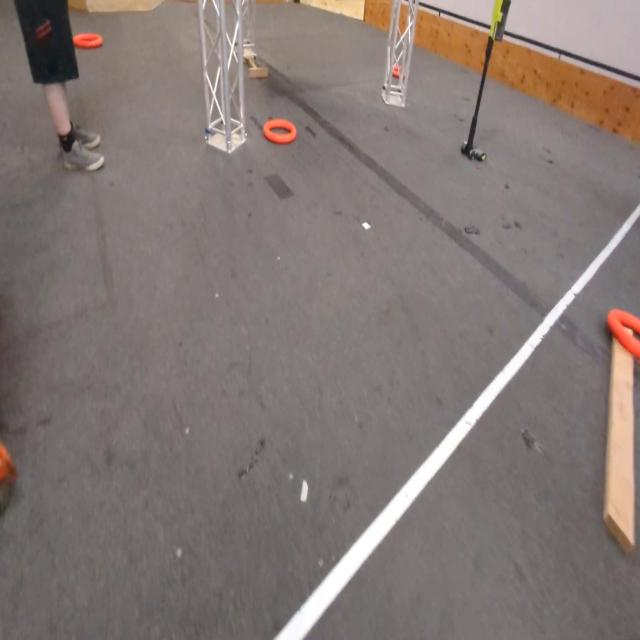note: (603, 302, 640, 362), (263, 118, 298, 146), (74, 32, 105, 50)
